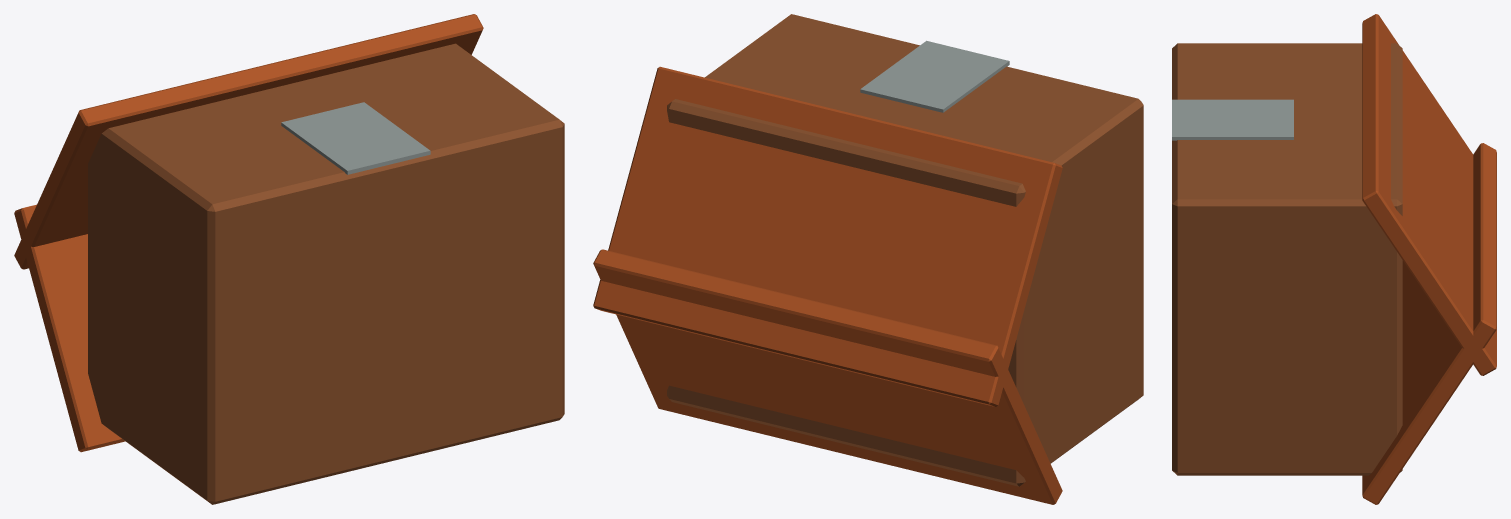
File: farmhouse_a.glb
3 renders of one model, left to right at view 1: azimuth 30°, elevation 25°; view 2: azimuth 150°, elevation 25°; view 3: azimuth 270°, elevation 25°, orthographic. The views are drawn at different scales.
Parts seen in each view (by area): view 1: building_shell, roof.001, roof, door; view 2: roof.001, building_shell, roof, door; view 3: building_shell, roof.001, roof, door.
Part boxes in pixels (x1=…): building_shell: x1=88, y1=43, x2=564, y2=504; roof.001: x1=14, y1=14, x2=483, y2=269; roof: x1=14, y1=204, x2=125, y2=452; door: x1=281, y1=102, x2=430, y2=174; roof.001: x1=593, y1=66, x2=1062, y2=406; building_shell: x1=667, y1=14, x2=1143, y2=486; roof: x1=593, y1=249, x2=1062, y2=504; door: x1=860, y1=40, x2=1009, y2=112; building_shell: x1=1172, y1=43, x2=1402, y2=475; roof.001: x1=1362, y1=14, x2=1496, y2=375; roof: x1=1362, y1=143, x2=1496, y2=504; door: x1=1172, y1=99, x2=1293, y2=140.
Size of the model in its own units: 6.24 by 5.11 by 4.79.
